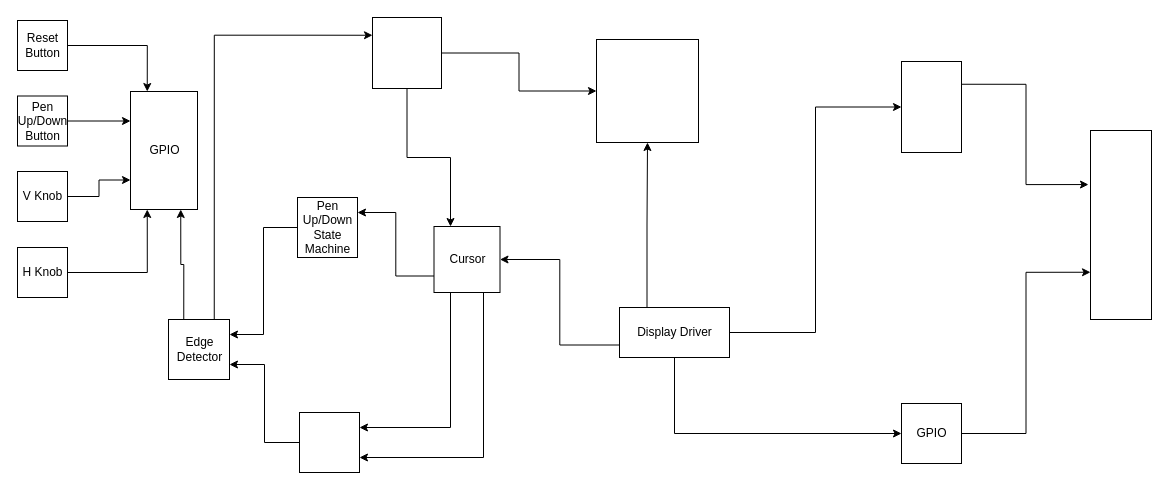
Image size: 1169x490. Some labels were removed from this diagram. The shapes that lost their labels are listed below. From the top down, each one's centre as x and y in pixels, then its label:
At point 407,52: "Data Writer".
At point 647,90: "Dogs DATA".
At point 931,106: "SPI".
At point 1121,225: "DOGS".
At point 329,442: "Knob State Machine".
